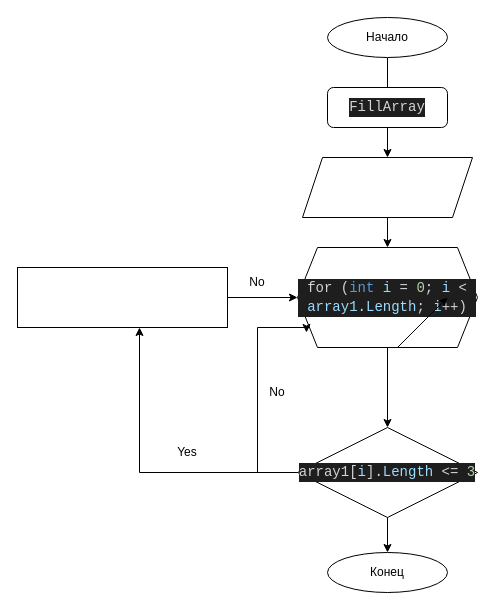
Some shapes in this 495 by 610 pixel diagram are drawn without their labels. The shapes that lost their labels are listed below. From the top down, each one's centre as x and y in pixels, then its label:
At (x=387, y=187): "string[] firstArray string[] secondArray count = 0".
At (x=122, y=297): "array2[ count ] = array1 [ i ]; count ++;".
